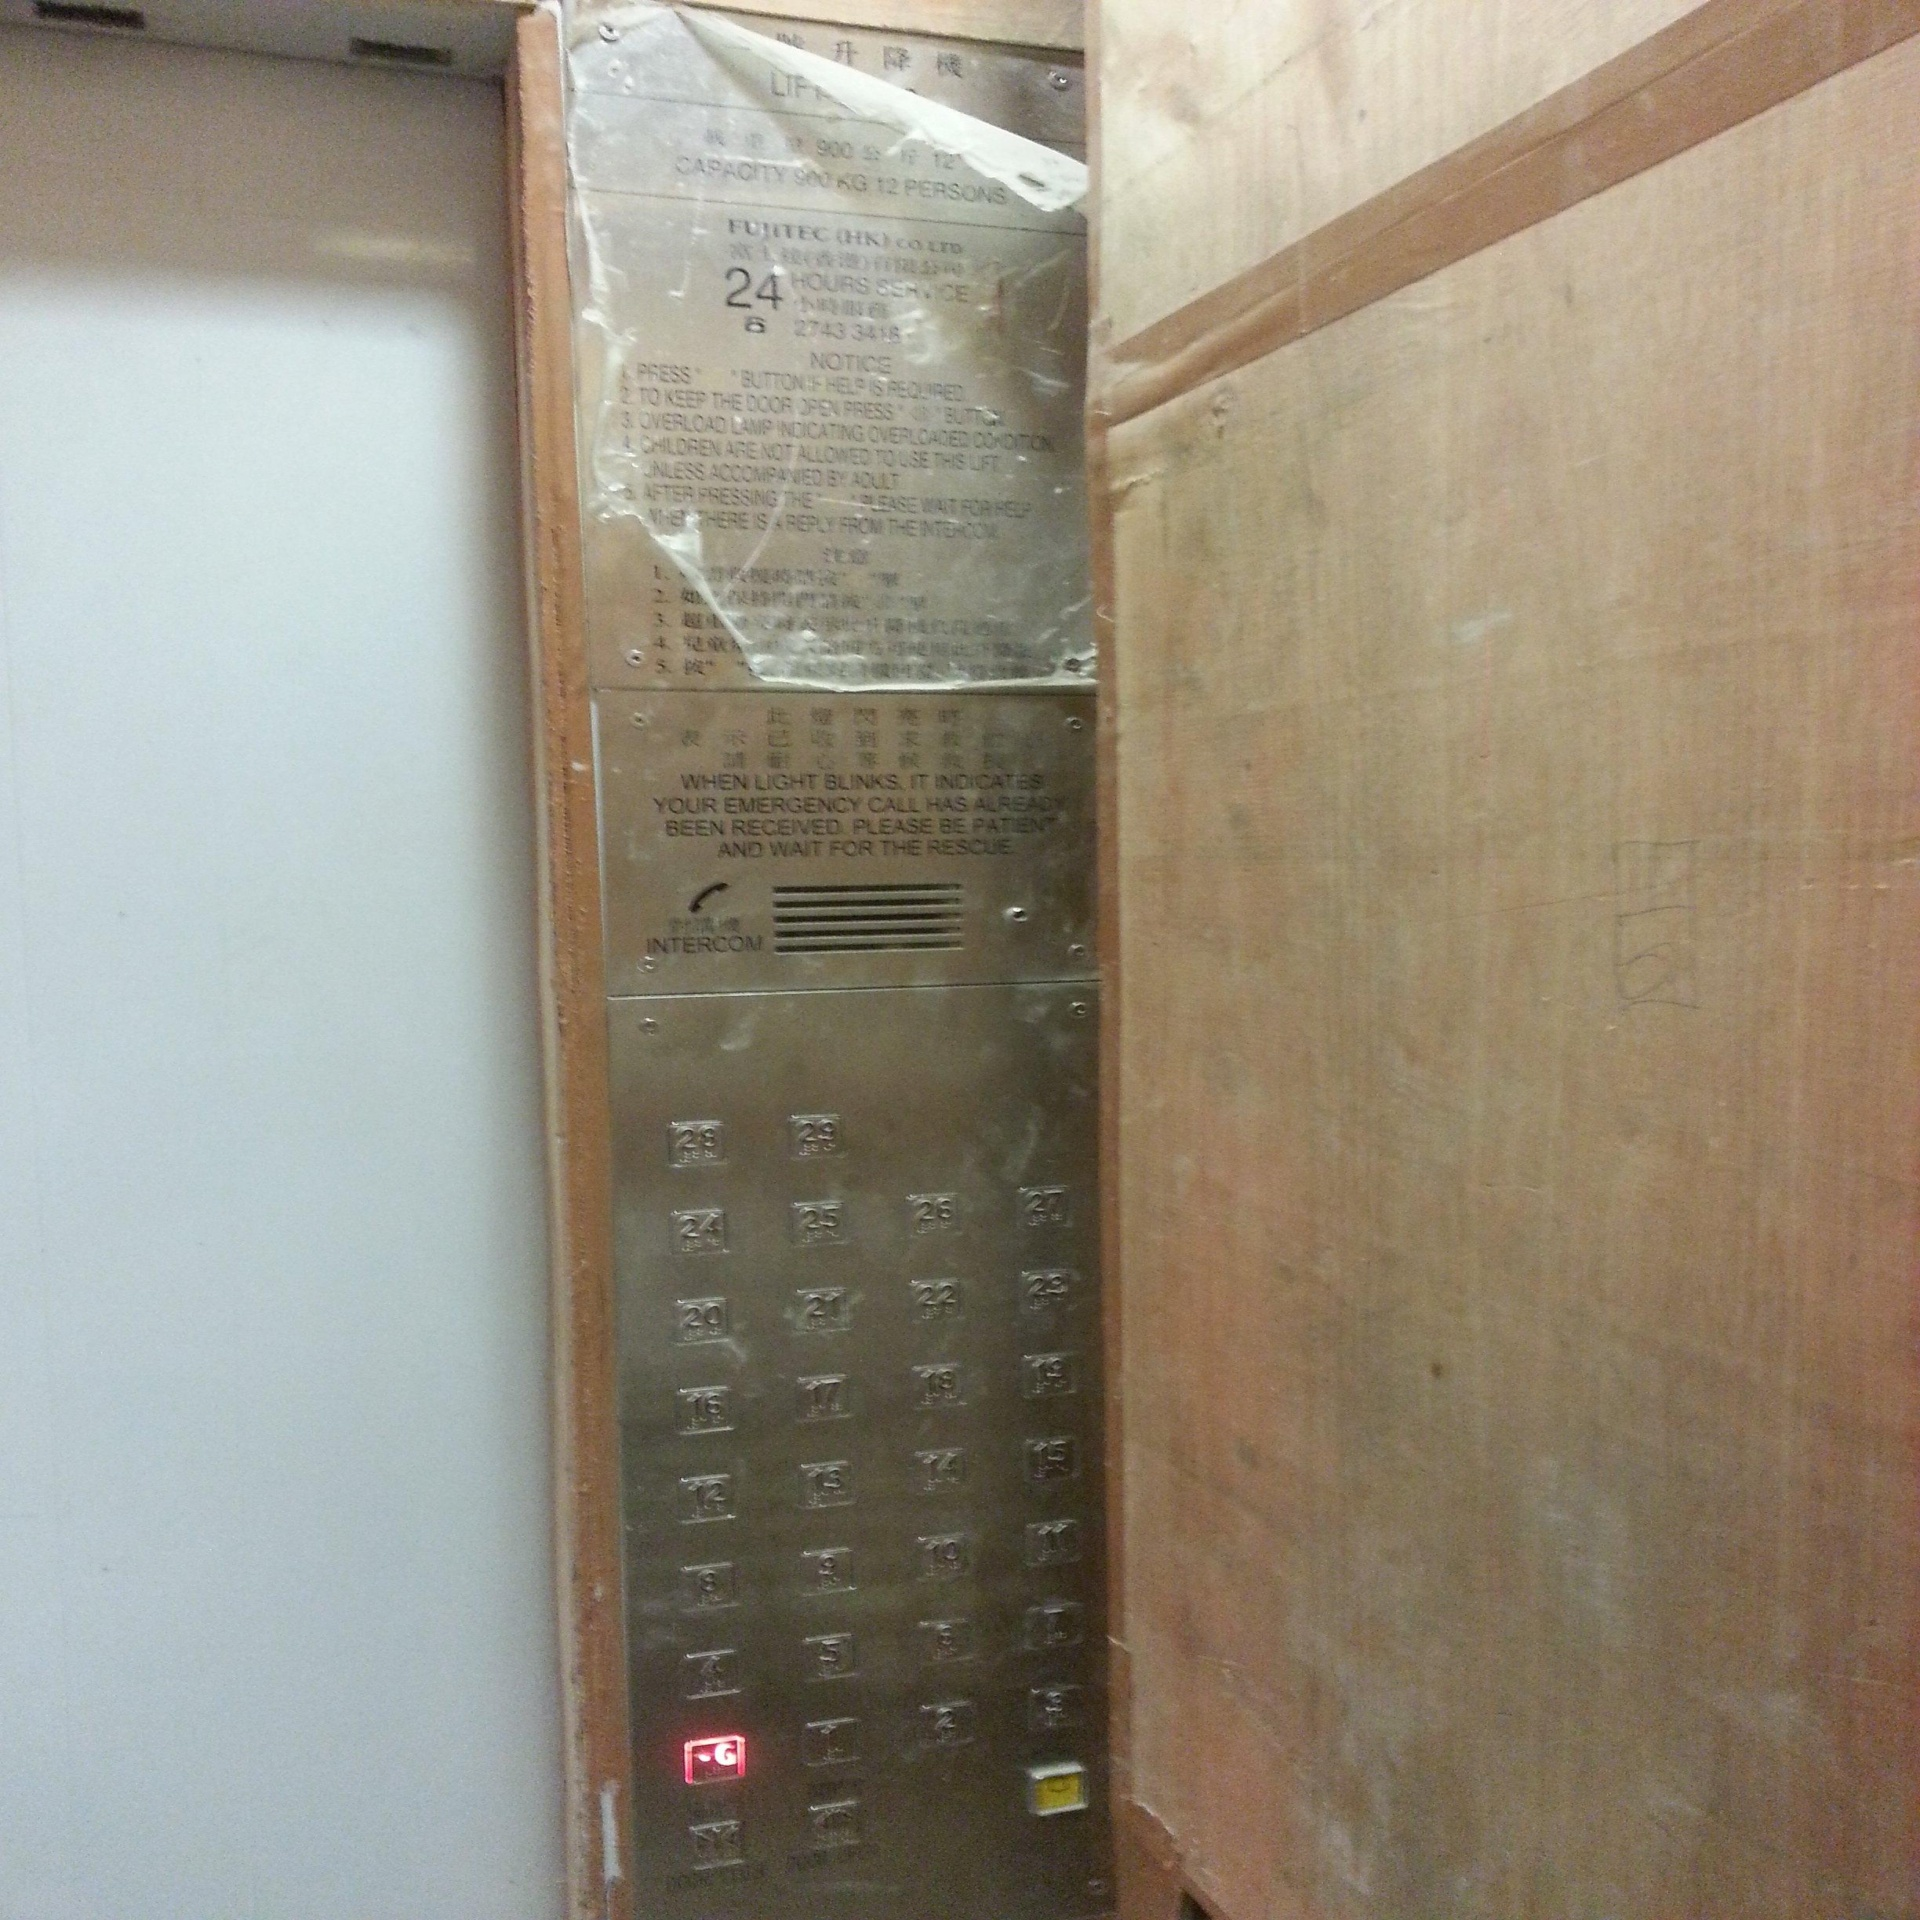1: (795, 1714, 862, 1771)
10: (905, 1526, 972, 1586)
12: (672, 1468, 737, 1528)
13: (791, 1454, 856, 1514)
14: (900, 1444, 969, 1500)
15: (1013, 1429, 1080, 1486)
16: (668, 1380, 735, 1440)
17: (789, 1370, 855, 1428)
18: (904, 1356, 971, 1412)
19: (1011, 1347, 1081, 1407)
2: (911, 1695, 979, 1751)
20: (668, 1292, 731, 1342)
21: (788, 1284, 853, 1333)
22: (900, 1271, 965, 1320)
23: (1009, 1262, 1074, 1312)
24: (668, 1206, 730, 1257)
25: (788, 1199, 853, 1248)
26: (900, 1189, 965, 1238)
27: (1013, 1182, 1076, 1231)
28: (666, 1122, 730, 1171)
29: (784, 1111, 846, 1162)
3: (1020, 1677, 1088, 1734)
4: (677, 1644, 744, 1704)
5: (795, 1626, 860, 1684)
7: (1020, 1598, 1087, 1655)
8: (672, 1556, 738, 1616)
9: (791, 1540, 856, 1600)
G: (679, 1730, 747, 1786)
alarm: (1022, 1758, 1090, 1820)
blur: (907, 1611, 979, 1669), (1020, 1514, 1088, 1568)
close: (682, 1816, 751, 1873)
open: (798, 1799, 867, 1853)
